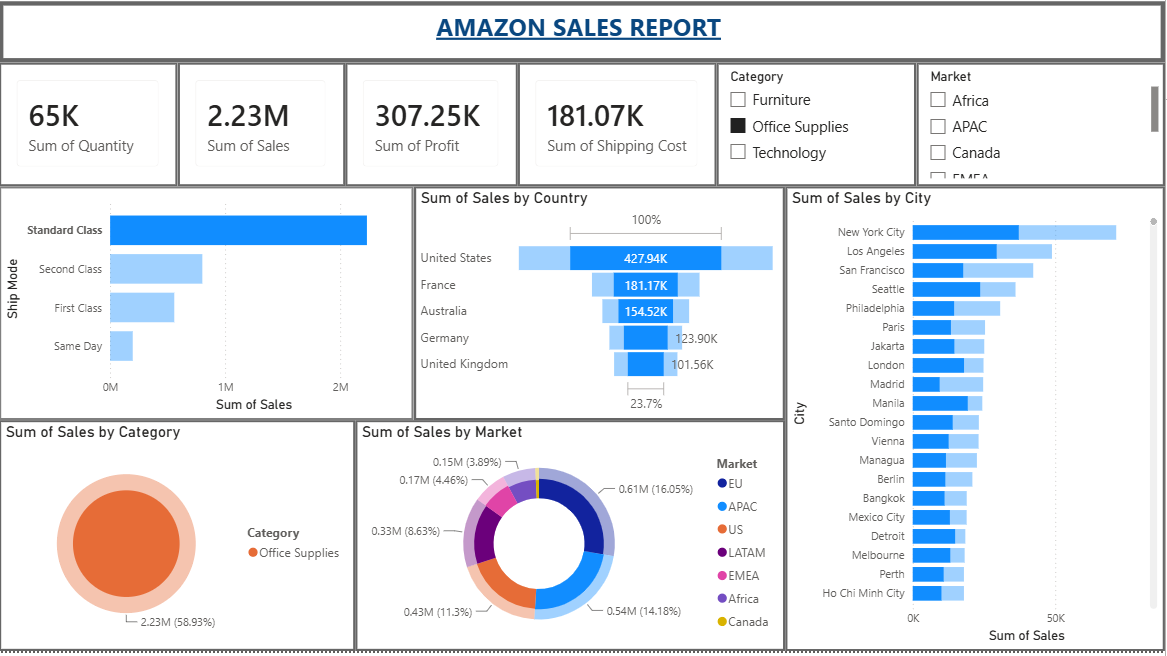

The dashboard page shown, as its layout file describes it:
{"tool":"powerbi","page":{"name":"Page 1","canvas":[1280,720],"ordinal":0},"visuals":[{"type":"pieChart","fields":{"Category":["Orders.Category"],"Y":["Sum(Orders.Sales)"]},"box":[0,466.6,391.1,253.9],"z":0},{"type":"donutChart","fields":{"Category":["Orders.Market"],"Y":["Sum(Orders.Sales)"]},"box":[391.1,466.6,472,253.9],"z":1000},{"type":"barChart","fields":{"Category":["Orders.Ship Mode"],"Y":["Sum(Orders.Sales)"]},"box":[0,209.9,455.6,256.6],"z":2000},{"type":"barChart","fields":{"Category":["Orders.City"],"Y":["Sum(Orders.Sales)"]},"box":[863.1,209.9,417.2,510.5],"z":3000},{"type":"funnel","fields":{"Category":["Orders.Country"],"Y":["Sum(Orders.Sales)"]},"box":[455.6,209.9,407.5,256.6],"z":4000},{"type":"textbox","box":[0,6.9,1280.3,67.2],"z":5000},{"type":"cardVisual","fields":{"Data":["Sum(Orders.Quantity)"]},"box":[0,74.1,196.2,135.8],"z":6000},{"type":"cardVisual","fields":{"Data":["Sum(Orders.Sales)"]},"box":[196.2,74.1,183.9,135.8],"z":7000},{"type":"cardVisual","fields":{"Data":["Sum(Orders.Profit)"]},"box":[380.1,74.1,189.4,135.8],"z":8000},{"type":"cardVisual","fields":{"Data":["Sum(Orders.Shipping Cost)"]},"box":[569.5,74.1,218.2,135.8],"z":9000},{"type":"slicer","fields":{"Values":["Orders.Category"]},"box":[787.7,74.1,219.6,135.8],"z":9001},{"type":"slicer","fields":{"Values":["Orders.Market"]},"box":[1007.2,74.1,273.1,135.8],"z":9002}]}

Visuals, with their boxes in screenshot pixels (x1, y1, x2, y2), scaled from the page's 1280x720 canvas onto the 1167x656 screenshot:
pieChart - Orders.Category x Sum(Orders.Sales): crop(0, 425, 357, 655)
donutChart - Orders.Market x Sum(Orders.Sales): crop(357, 425, 787, 655)
barChart - Orders.Ship Mode x Sum(Orders.Sales): crop(0, 191, 415, 425)
barChart - Orders.City x Sum(Orders.Sales): crop(787, 191, 1166, 655)
funnel - Orders.Country x Sum(Orders.Sales): crop(415, 191, 787, 425)
textbox: crop(0, 6, 1166, 68)
cardVisual - Sum(Orders.Quantity): crop(0, 68, 179, 191)
cardVisual - Sum(Orders.Sales): crop(179, 68, 347, 191)
cardVisual - Sum(Orders.Profit): crop(347, 68, 519, 191)
cardVisual - Sum(Orders.Shipping Cost): crop(519, 68, 718, 191)
slicer - Orders.Category: crop(718, 68, 918, 191)
slicer - Orders.Market: crop(918, 68, 1166, 191)
